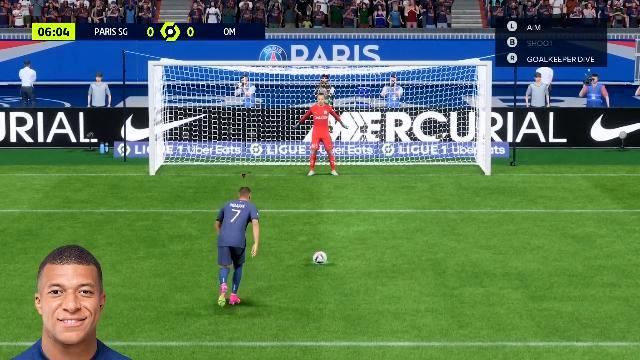bottom-left: (160, 126, 278, 178)
bottom-right: (370, 126, 480, 178)
center-down: (278, 126, 369, 178)
center-up: (278, 70, 369, 126)
circle: (312, 262, 330, 264)
football: (313, 251, 327, 263)
goalkeeper: (292, 92, 350, 180)
player: (214, 186, 260, 310)
top-left: (160, 70, 278, 126)
top-right: (370, 70, 480, 126)
